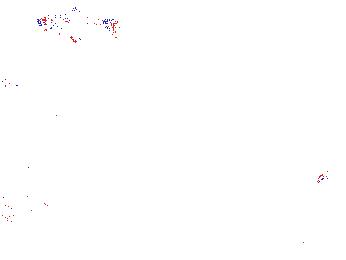X-ray fish: (1, 176, 48, 215)
red belly glassfish: (314, 170, 335, 186)
redtail glassfish: (35, 9, 120, 39)
